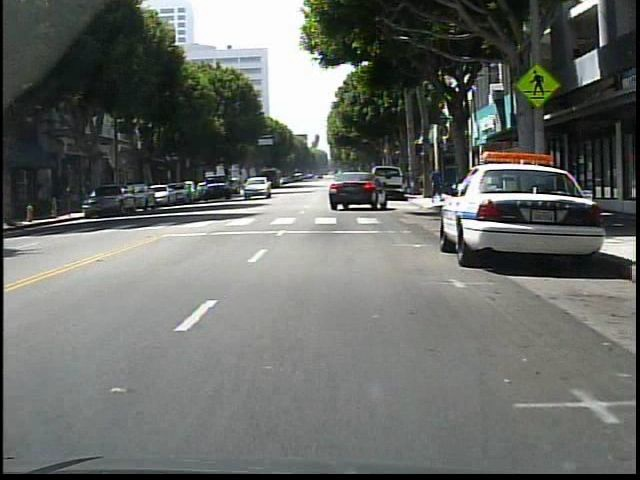person: (428, 163, 450, 207)
